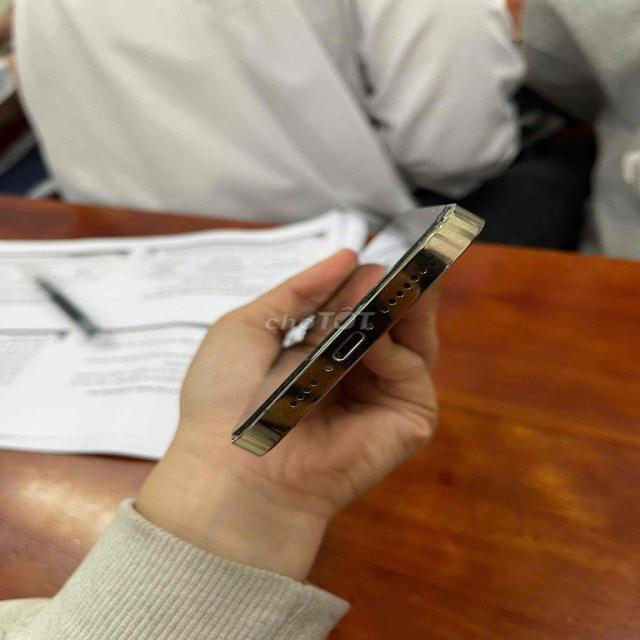gen_12_13: (227, 204, 490, 461)
